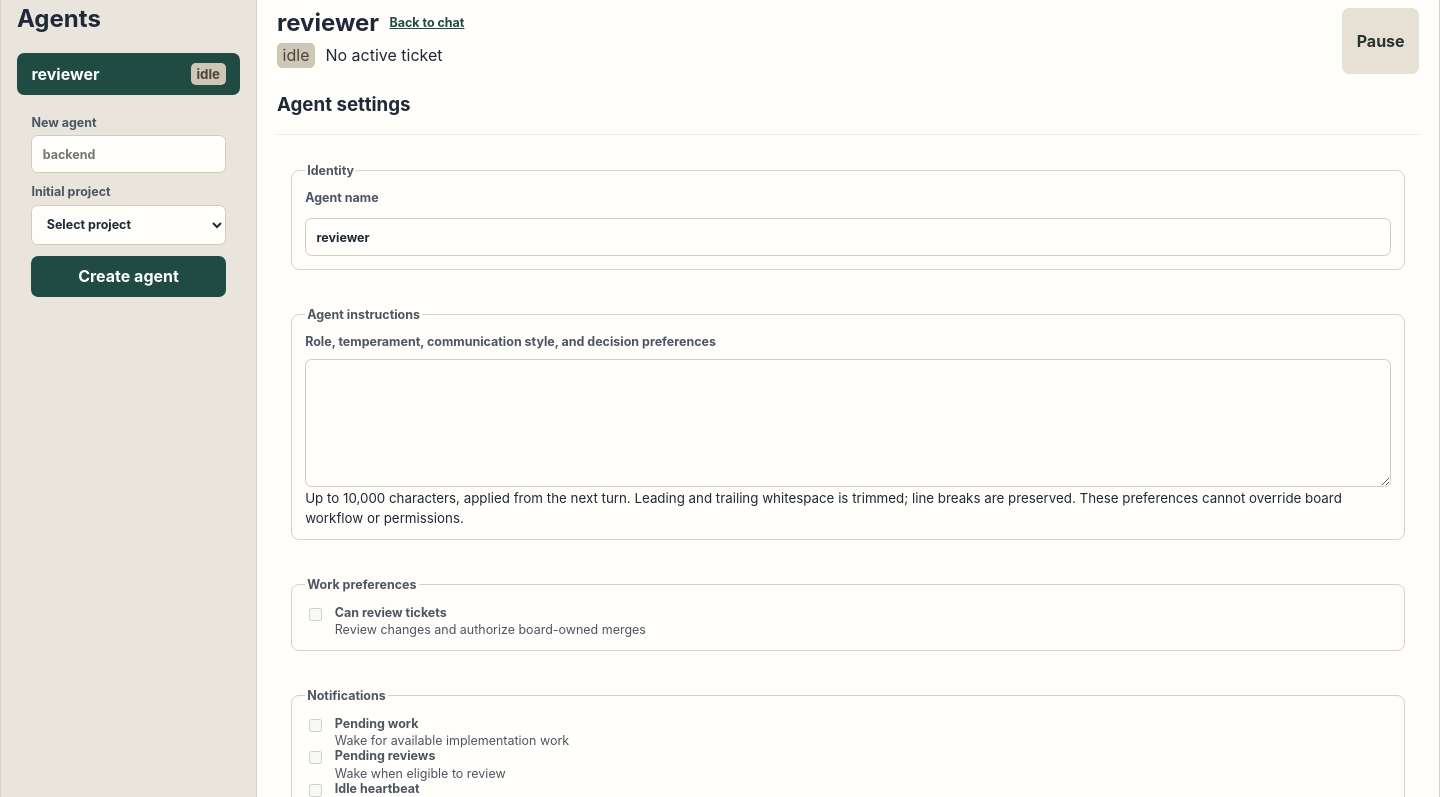
Scenario: AgentWorkspace › shows saving and failure feedback
Step 1. Click the checkbox labelled "Pending work Wake for available implementation work" → (316, 726), box [309, 719, 322, 732]
(page scrolled)
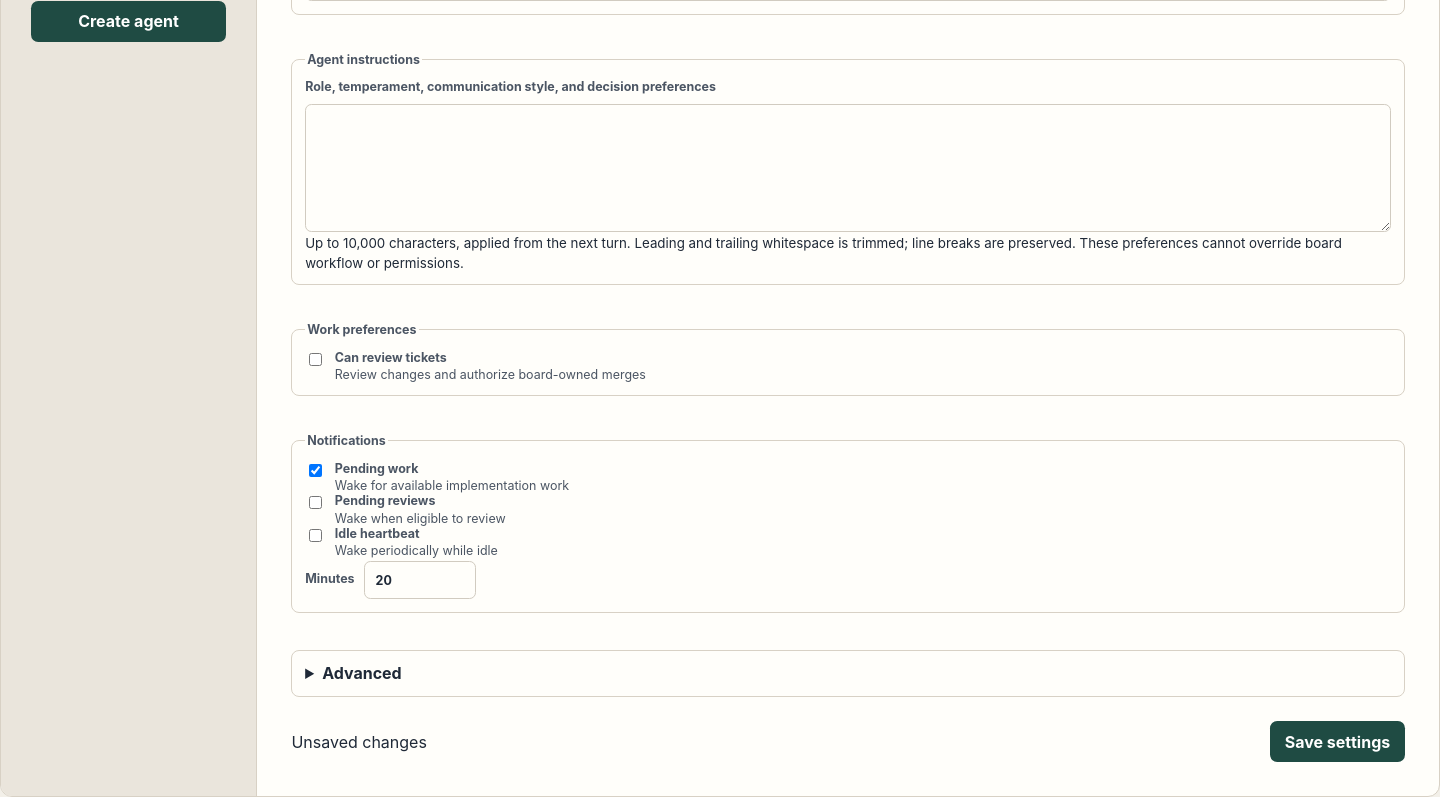
Step 2. Click the button "Save settings" → (1337, 742), box [1270, 721, 1405, 762]
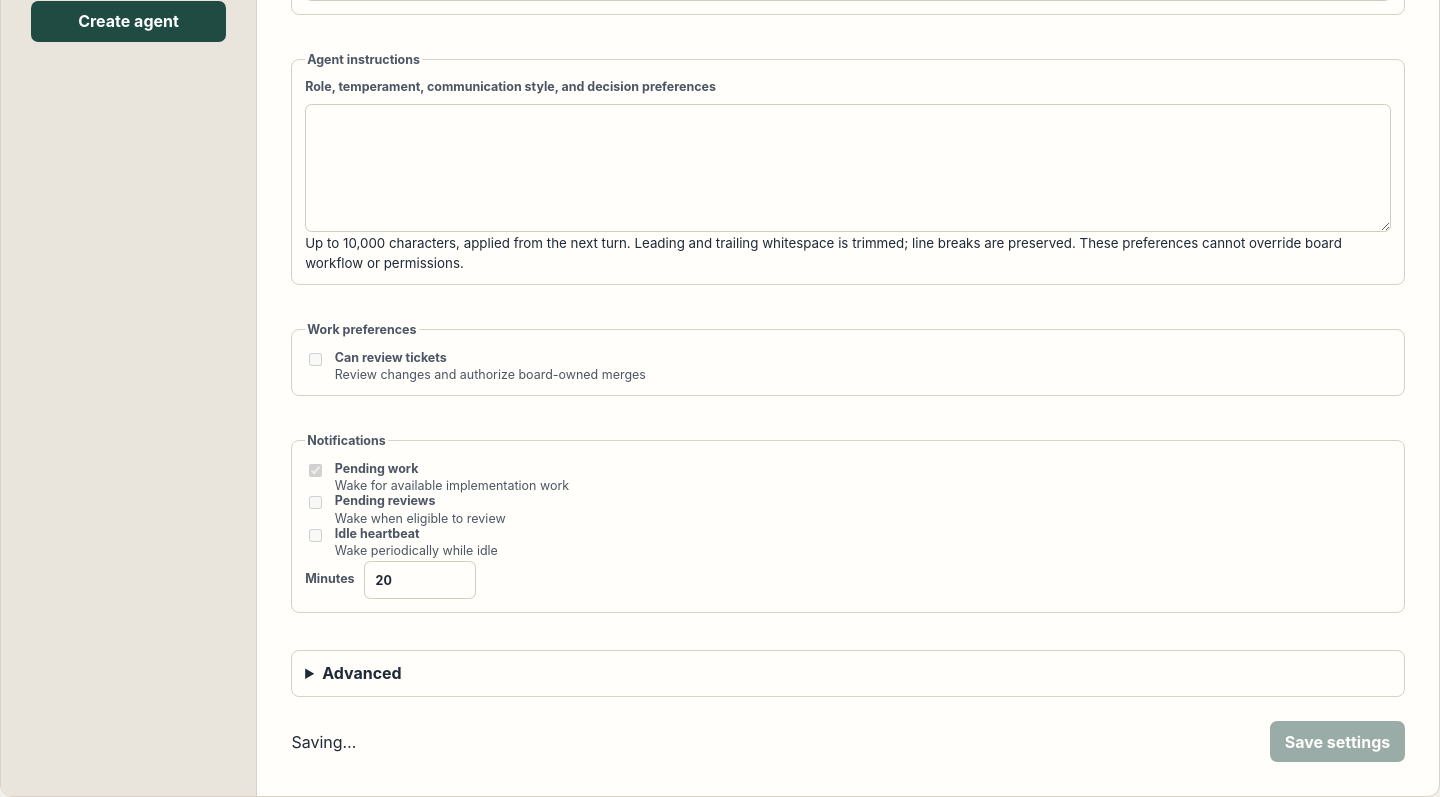
Now the message reads "Saving…", box [291, 732, 356, 752]
Now the element named "pending reviews" is disabled, box [291, 433, 1405, 613]
Step 3. Click the checkbox labelled "Pending reviews Wake when eligible to review" → (316, 503), box [309, 496, 322, 509]
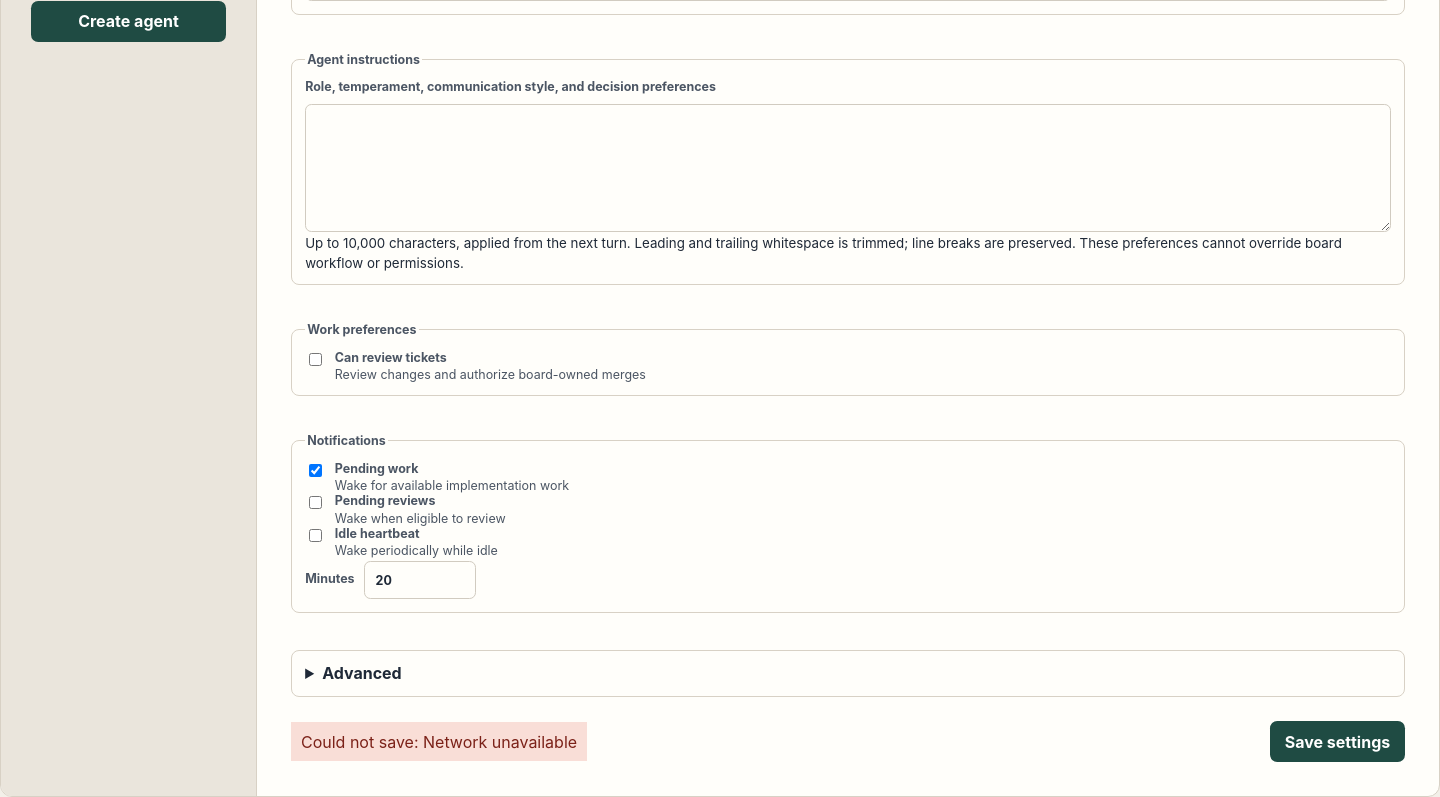
Now the message reads "Could not save: Network unavailable", box [301, 732, 577, 752]
